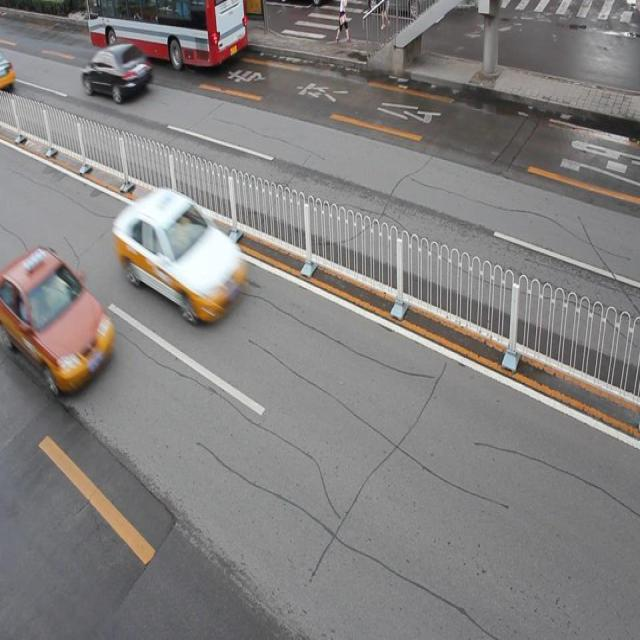car: (114, 186, 247, 325), (1, 245, 115, 392), (82, 40, 152, 103)
van: (88, 1, 247, 64)
